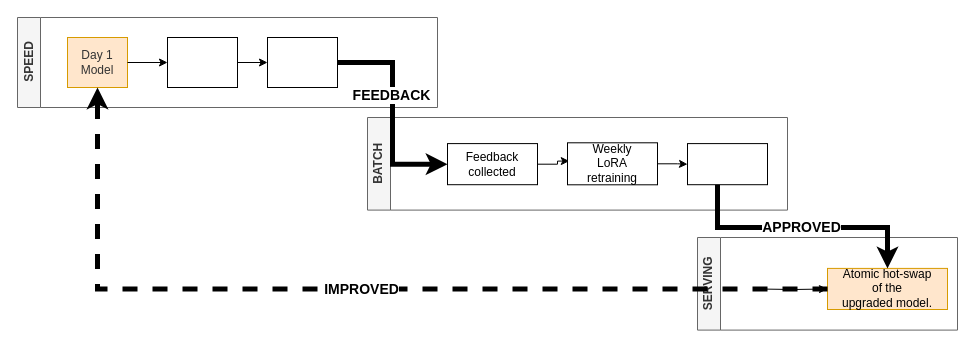
This 975x348 diagram has some shape labels left out. The shapes that lost their labels are listed below. From the top down, each one's centre as x and y in pixels, then its label:
At point (202, 62): "Generates Shortlist".
At point (302, 62): "Worker confirms match".
At point (727, 164): "Validation".
